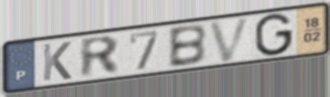7: (127, 28, 161, 73)
B: (166, 23, 208, 70)
G: (253, 12, 295, 58)
K: (41, 40, 74, 83)
R: (78, 34, 123, 80)
V: (206, 15, 254, 65)
